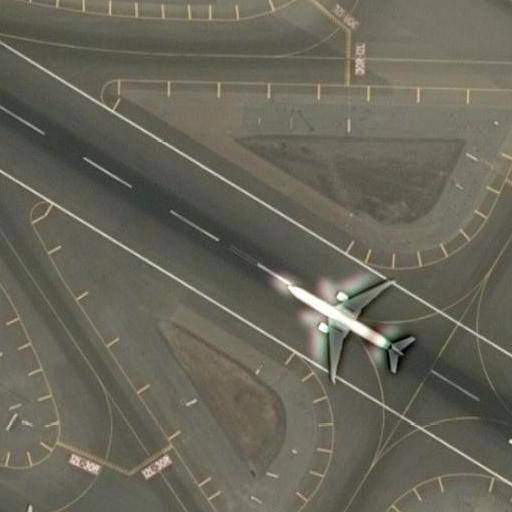Aircraft: (260, 264, 422, 383), (0, 498, 49, 512)
